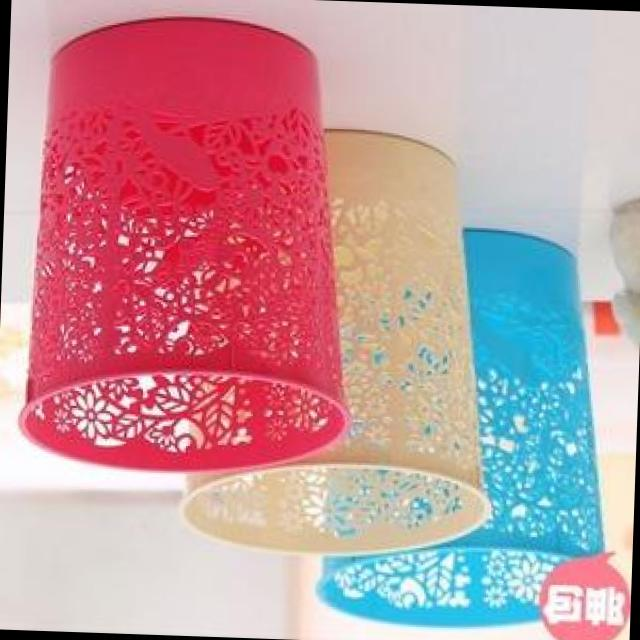dustbin: (11, 4, 368, 485), (169, 115, 507, 570)
